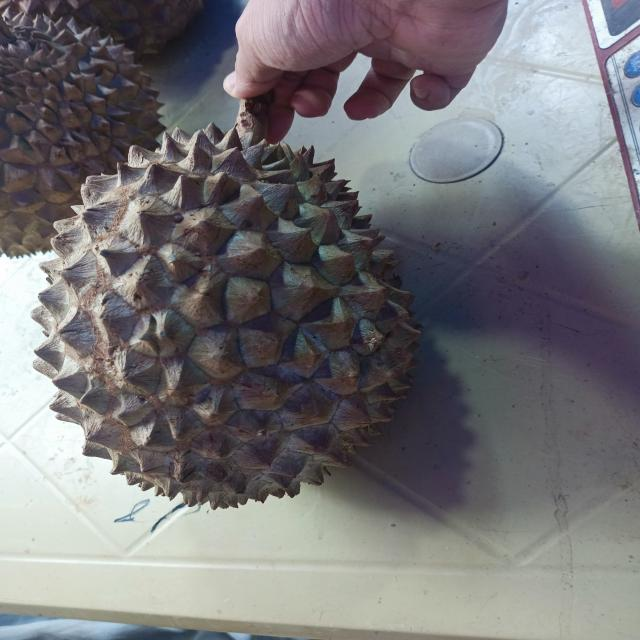mature: (35, 125, 420, 509)
